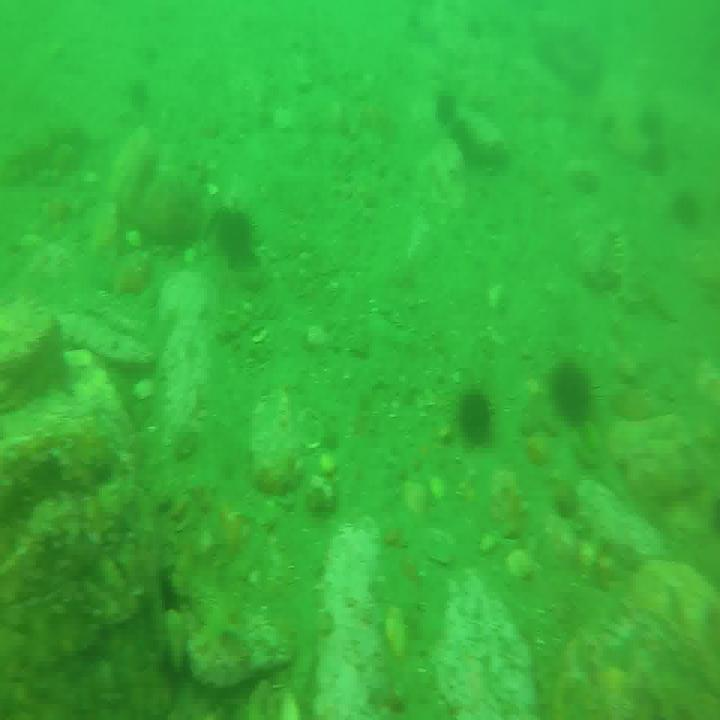echinus: (552, 361, 593, 425), (215, 207, 257, 269), (457, 385, 493, 448), (636, 106, 666, 151), (674, 184, 698, 236), (646, 146, 674, 178), (437, 91, 456, 133)
holothurian: (614, 203, 649, 309)
